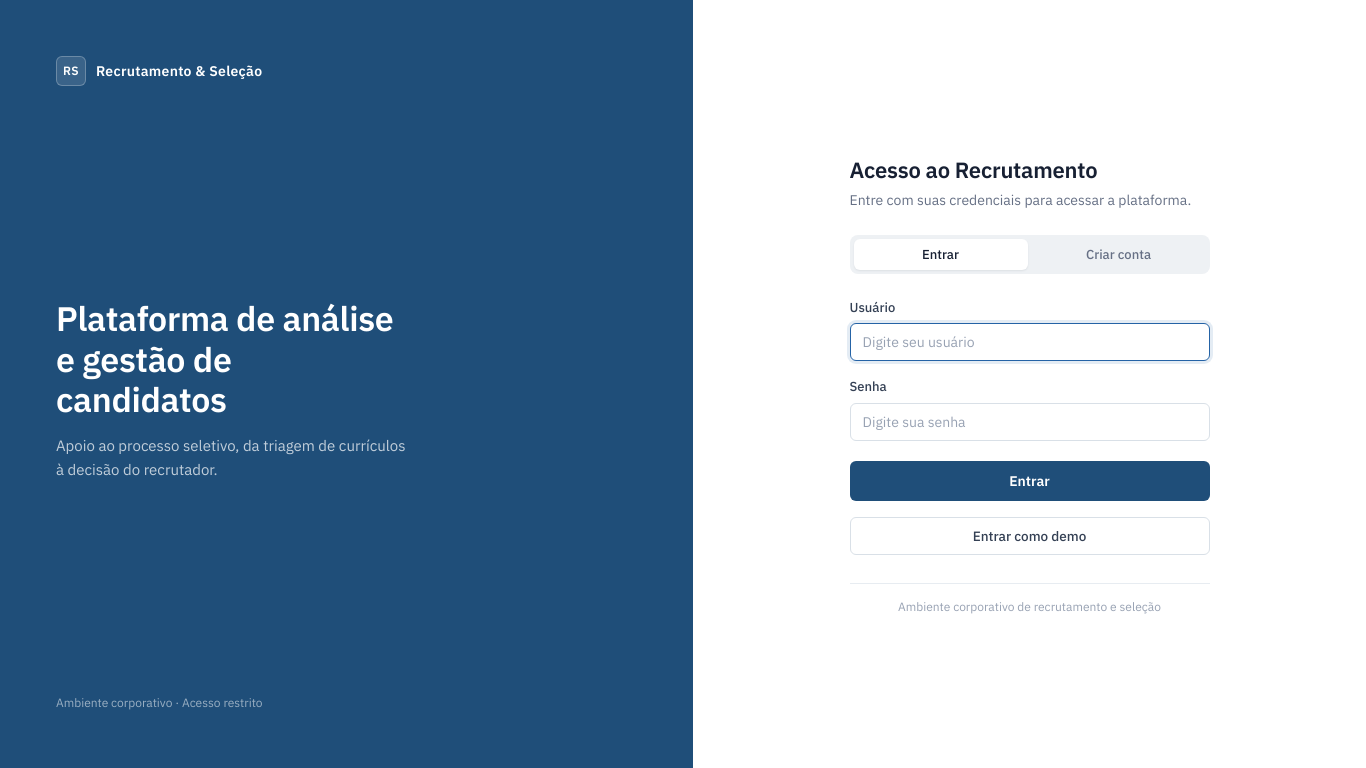
Scenario: App — autenticação por usuário/senha + JWT › permite criar conta e volta para a aba de entrar
The width and height of the screenshot is (1366, 768).
Step 1. Click the button "Criar conta" → point(1118, 254), box [1032,238,1206,270]
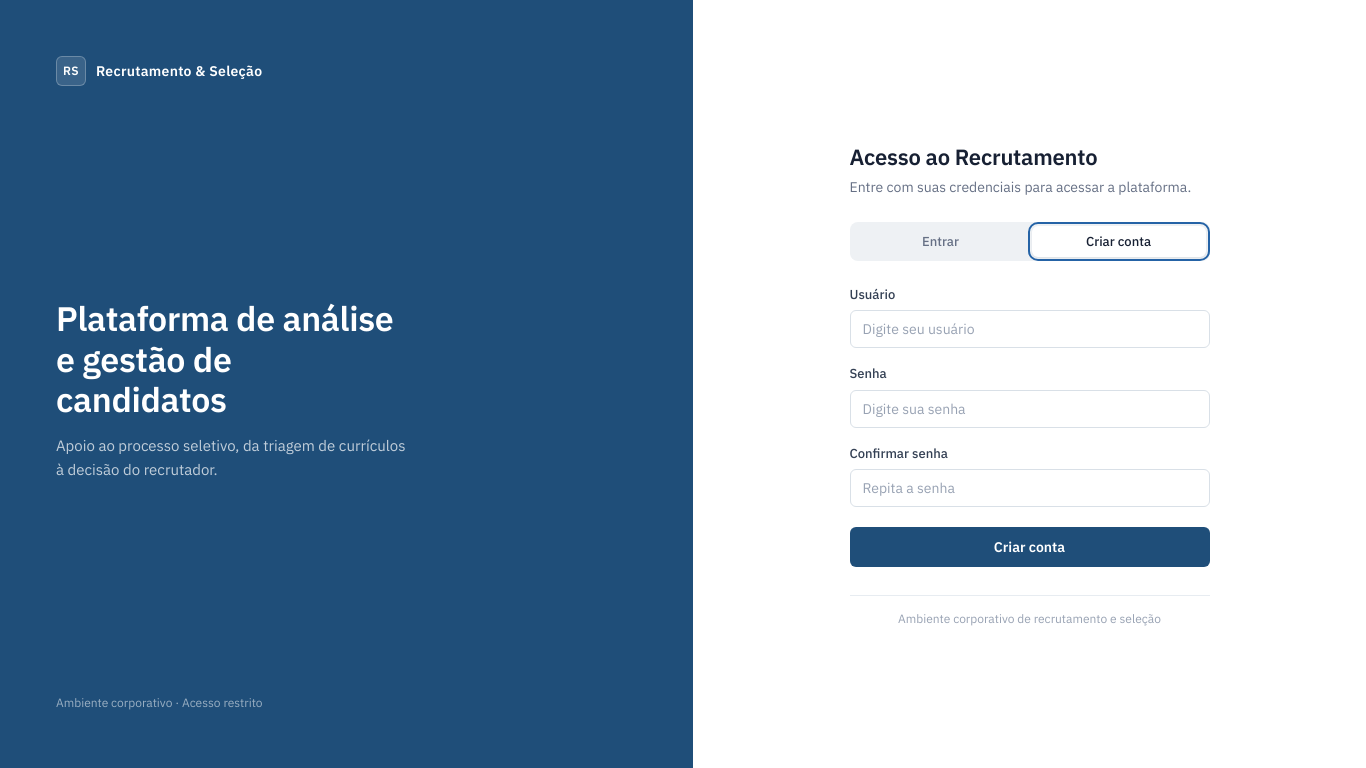
Step 2. Type "admin" into the field labelled "Usuário" → point(1030, 329), box [850,310,1210,348]
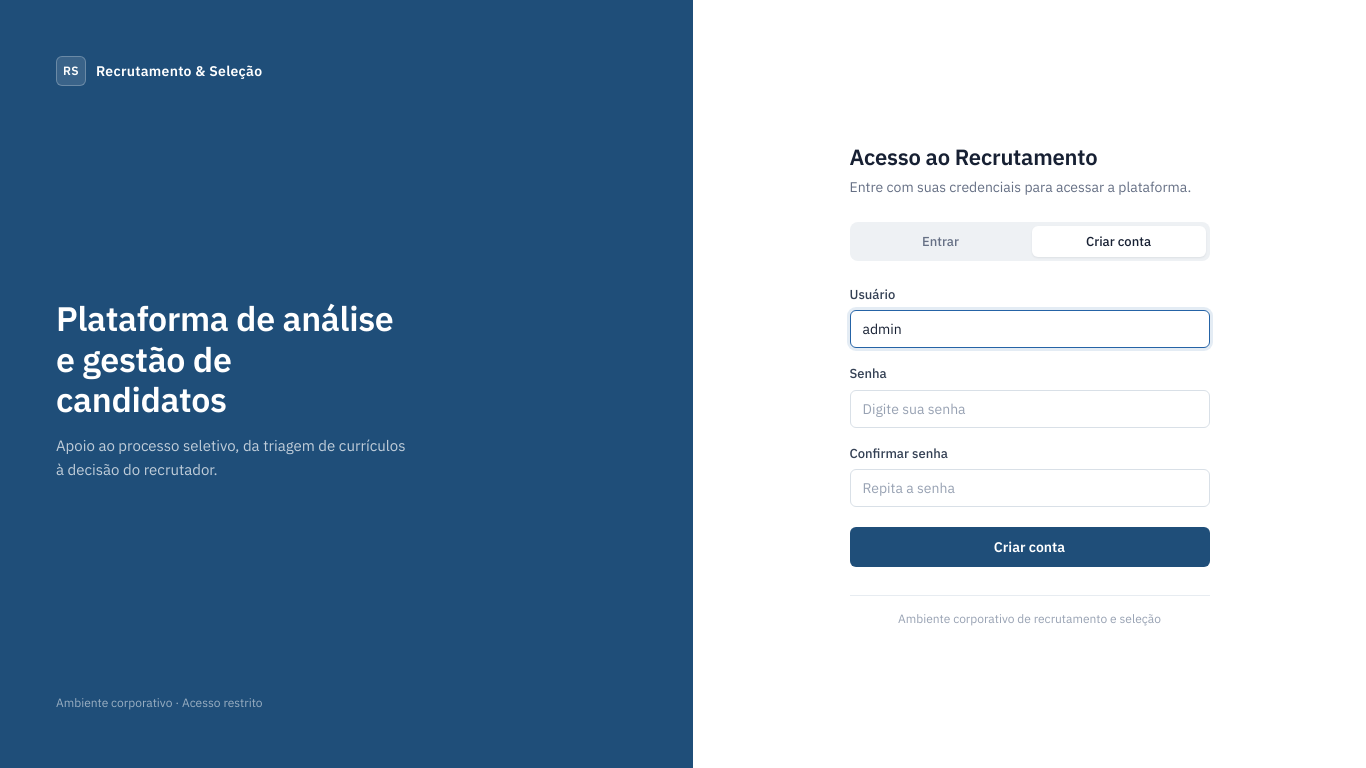
Step 3. Type "SenhaForte@123" into the password field labelled "Senha" → point(1030, 409), box [850,390,1210,428]
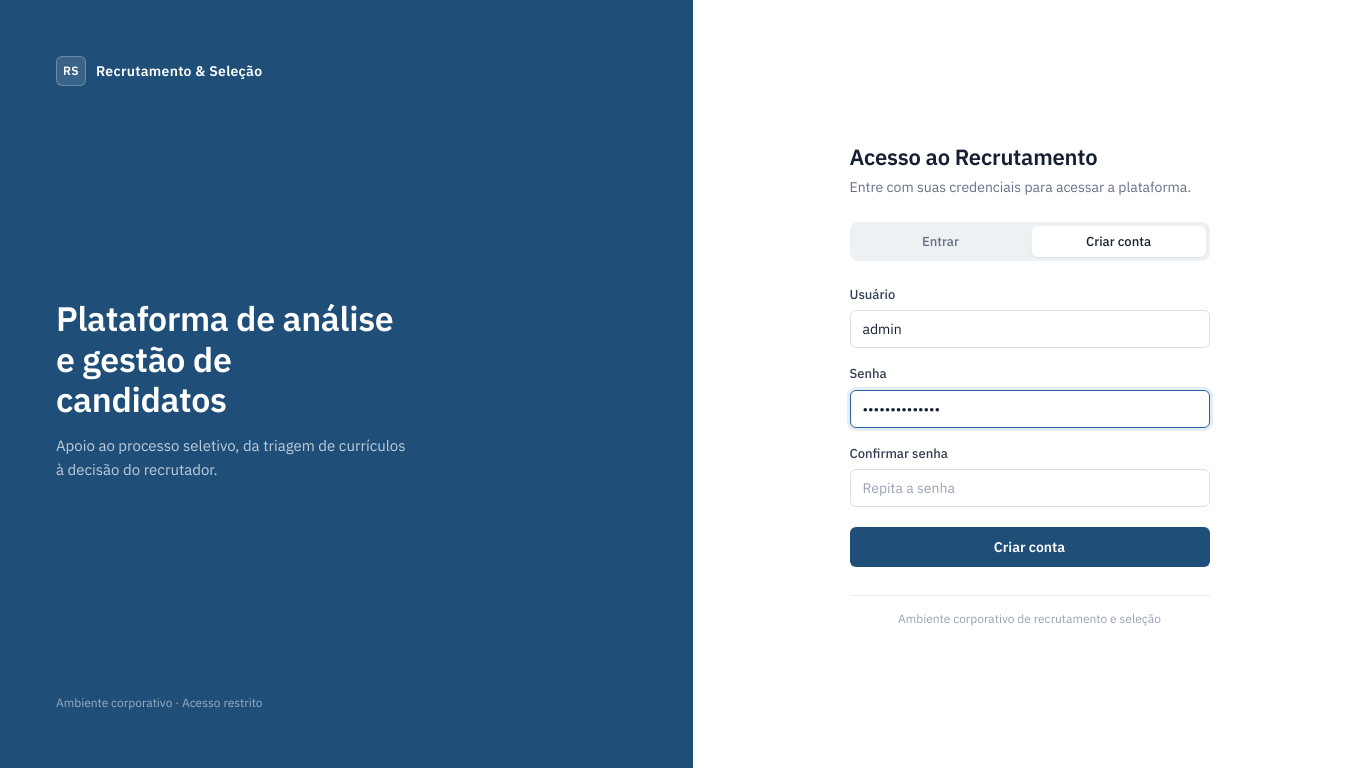
Step 4. Type "SenhaForte@123" into the password field labelled "Confirmar senha" → point(1030, 488), box [850,469,1210,507]
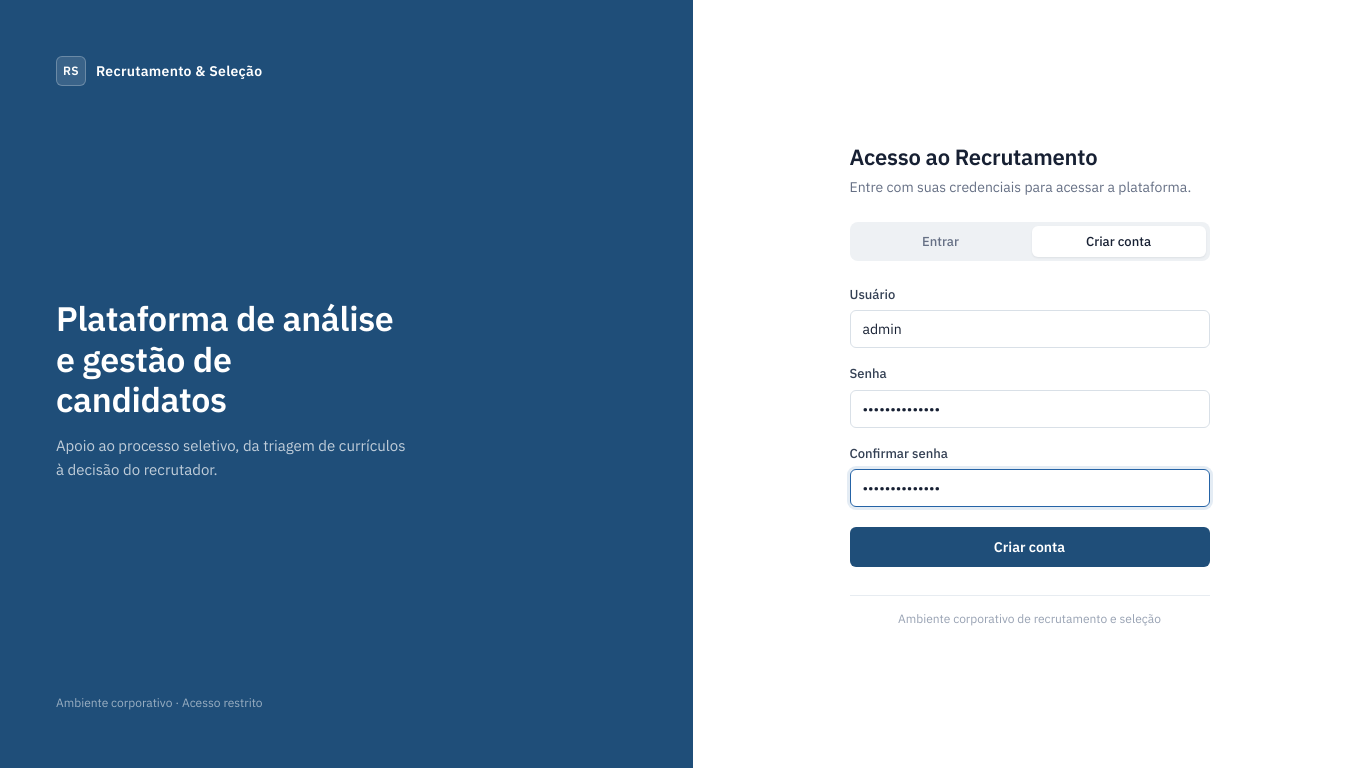
Step 5. Click the button "Criar conta" below "Confirmar senha" → point(1030, 547), box [850,527,1210,567]
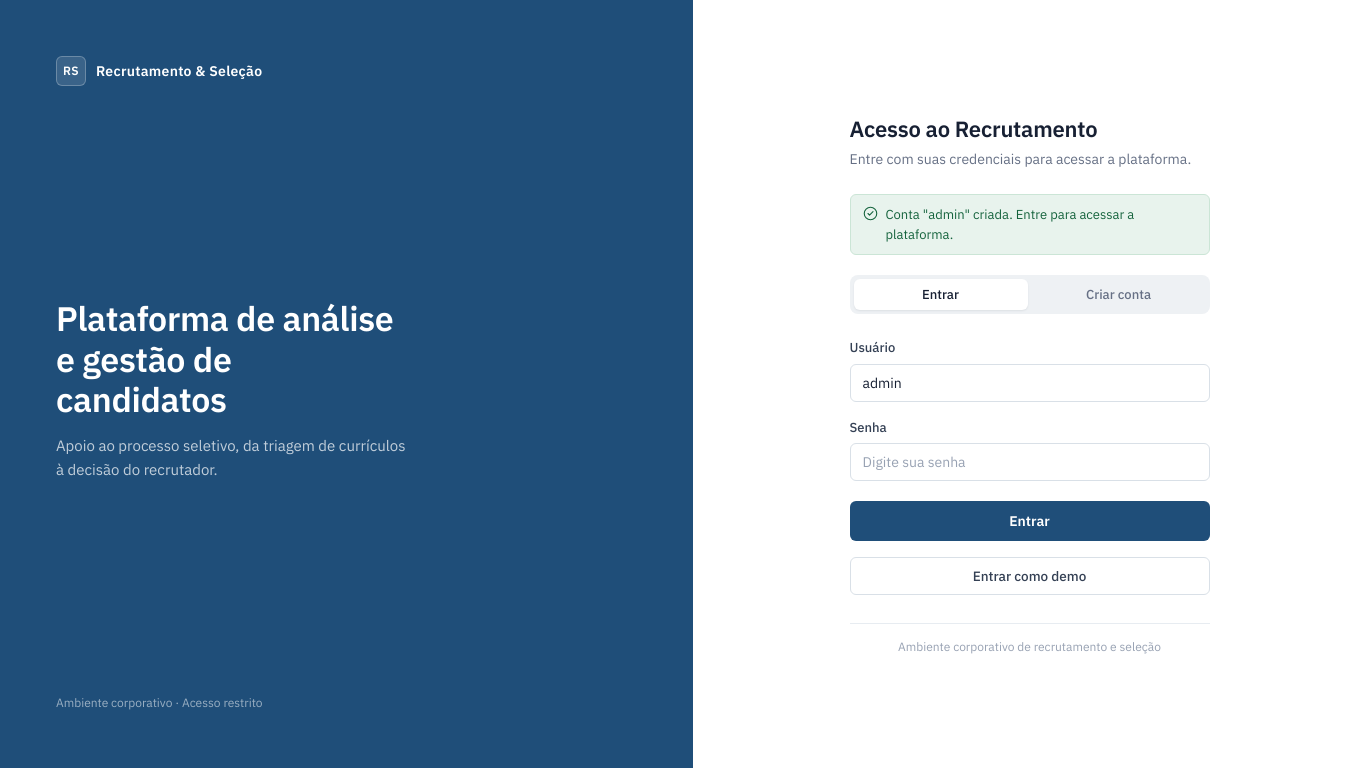
expect the text "Conta \"admin\" criada. Entre para acessar a plataforma." is shown: met, box [886,206,1134,242]
expect the button "Entrar" below "Senha" is shown: met, box [850,501,1210,541]
